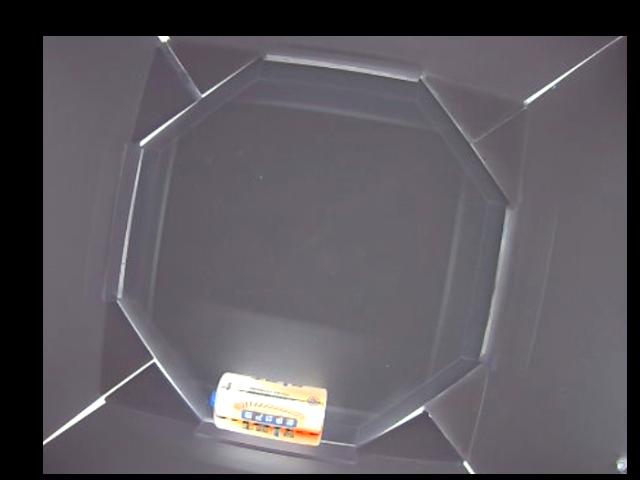Battery: (210, 371, 327, 443)
